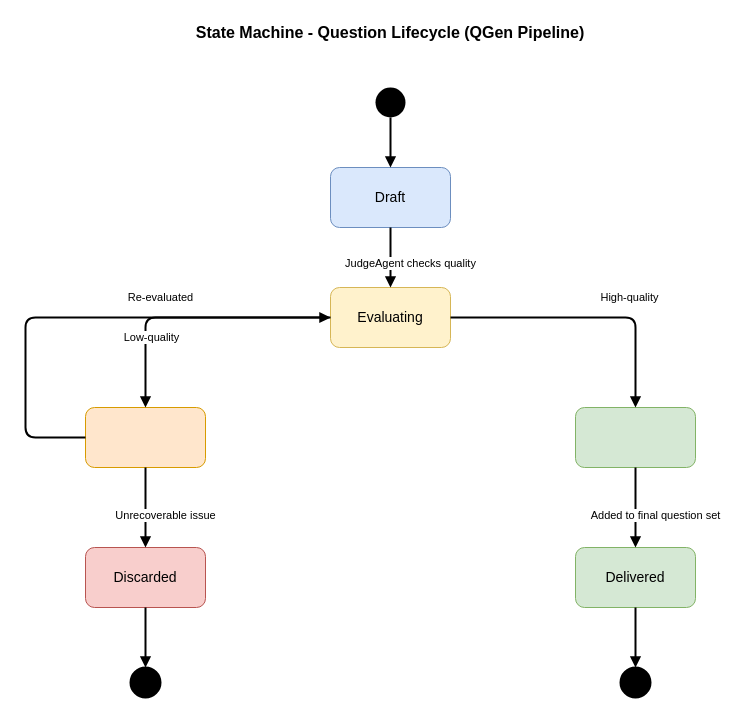
The diagram is 737 pixels wide and 715 high, and some of its shapes have lost their labels. The centre of each missing label's shape, as x and y in pixels:
"Approved" goes at [635,437].
"Refine" goes at [145,437].
